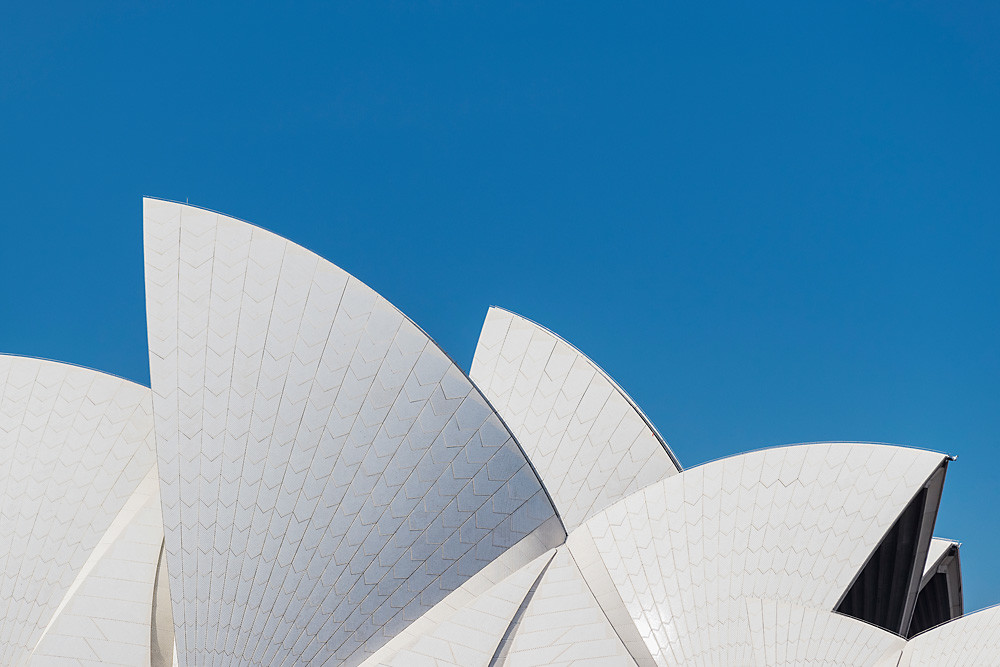opera house: (3, 145, 1000, 664)
